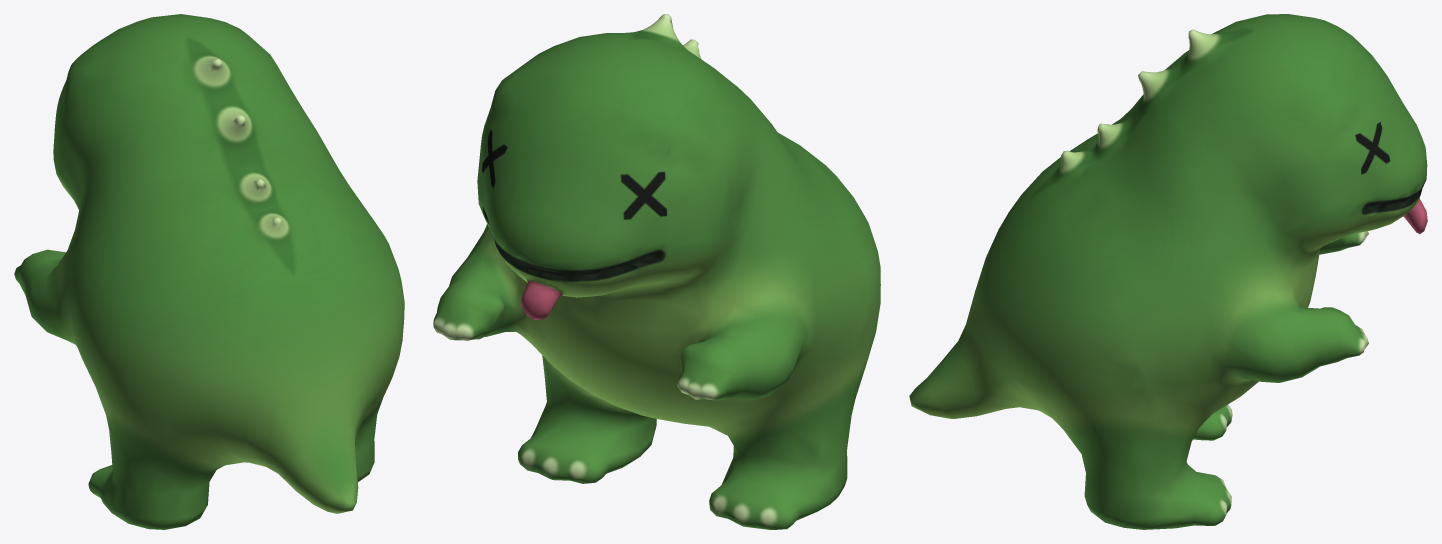
Rendered from dino-mascot-crafted.glb.
The picture shows the model from 3 angles, left to right: view 1: azimuth 30°, elevation 25°; view 2: azimuth 150°, elevation 25°; view 3: azimuth 270°, elevation 25°; orthographic projection. The views are drawn at different scales.
Visible parts, largest first — view 1: tripo_node_09017288-088f-4811-85e4-fefc3660fc71; view 2: tripo_node_09017288-088f-4811-85e4-fefc3660fc71; view 3: tripo_node_09017288-088f-4811-85e4-fefc3660fc71.
Boxes of the visible parts, bbox=[...] form: tripo_node_09017288-088f-4811-85e4-fefc3660fc71: bbox=[14, 14, 404, 529]; tripo_node_09017288-088f-4811-85e4-fefc3660fc71: bbox=[433, 14, 880, 529]; tripo_node_09017288-088f-4811-85e4-fefc3660fc71: bbox=[909, 14, 1427, 529].
Bounding box in the file's own units: 0.6967 × 0.9413 × 1.
Materials: 1 (1 with a texture image).
